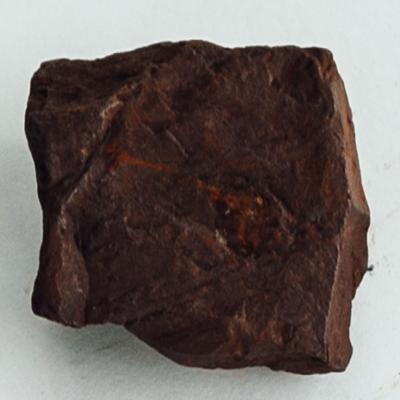mineralogy: (25, 41, 370, 374)
